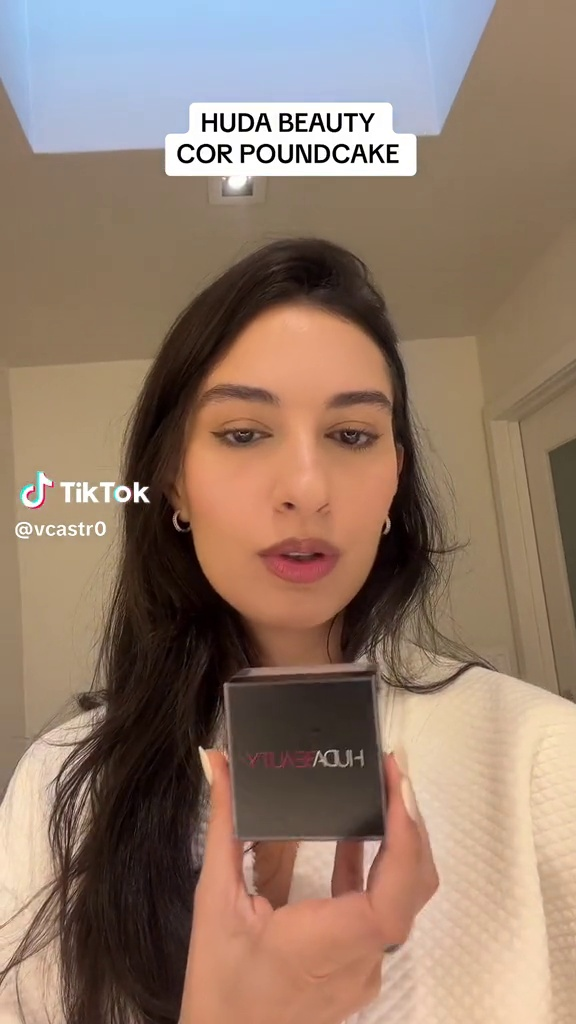train' :'yolo_data/train/images',: (217, 652, 401, 852)
